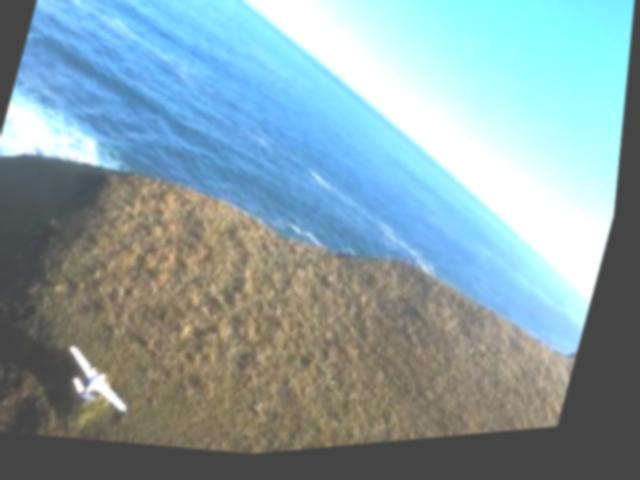uav: (62, 343, 151, 421)
